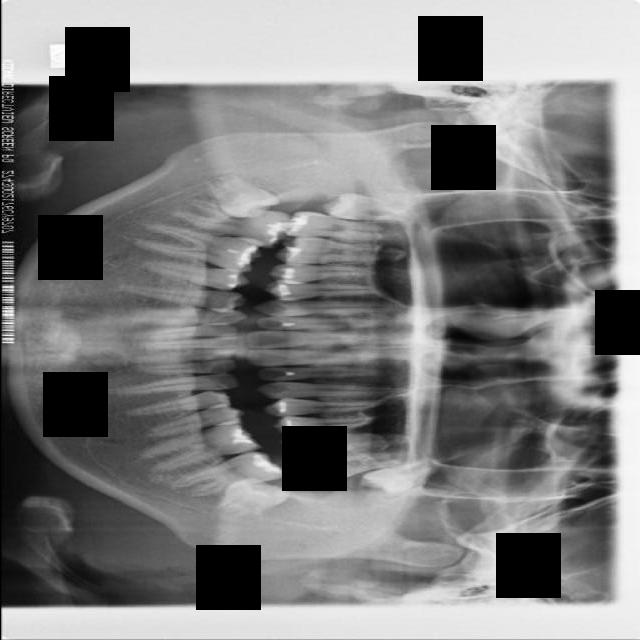3M ESPE Implant: (320, 191, 409, 224)
52: (247, 452, 284, 478), (234, 240, 260, 270), (302, 460, 327, 481), (266, 221, 286, 244), (285, 213, 309, 232), (287, 434, 307, 456), (230, 428, 251, 445), (276, 282, 291, 297), (286, 245, 301, 259), (282, 418, 295, 432), (280, 267, 294, 279), (226, 248, 242, 256), (277, 401, 287, 413), (226, 282, 237, 289), (282, 322, 295, 327), (285, 370, 295, 376), (227, 274, 237, 279)
73: (15, 618, 25, 628)
BioHorizons Implant: (292, 443, 419, 487)
BioLife Implant: (358, 453, 450, 504)
Biomet 3i Implant: (204, 464, 292, 530)
Blue Sky Bio Implant: (173, 444, 289, 502)
Caries: (283, 210, 382, 242)
Implant: (169, 193, 292, 252)
Keystone Dental Implant: (197, 165, 282, 231)
